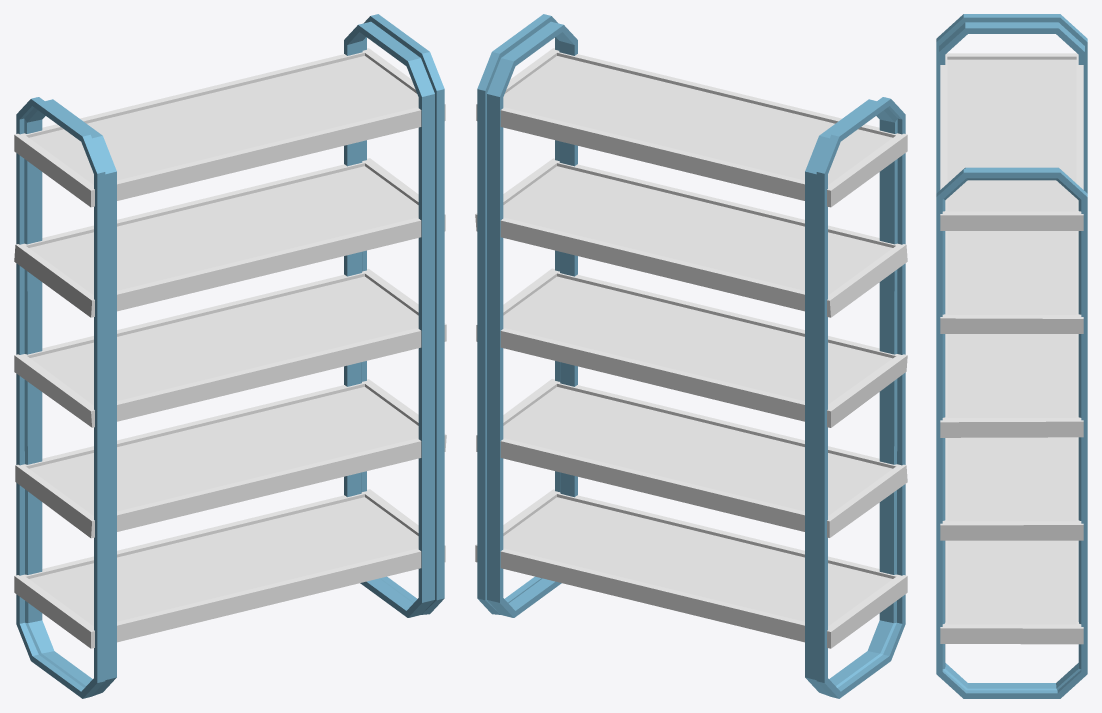
File: Props_Shelf_Tall.001.fbx
The picture shows the model from 3 angles, left to right: view 1: azimuth 30°, elevation 25°; view 2: azimuth 150°, elevation 25°; view 3: azimuth 270°, elevation 25°; orthographic projection. The views are drawn at different scales.
Parts seen in each view (by area): view 1: Props_Shelf_Tall.001; view 2: Props_Shelf_Tall.001; view 3: Props_Shelf_Tall.001.
Boxes of the visible parts, box(x1,y1,x2,y2) form: Props_Shelf_Tall.001: box(14, 14, 446, 698); Props_Shelf_Tall.001: box(475, 14, 907, 698); Props_Shelf_Tall.001: box(936, 14, 1087, 698).
Bounding box in the file's own units: 1.44 × 2.17 × 0.5676.
